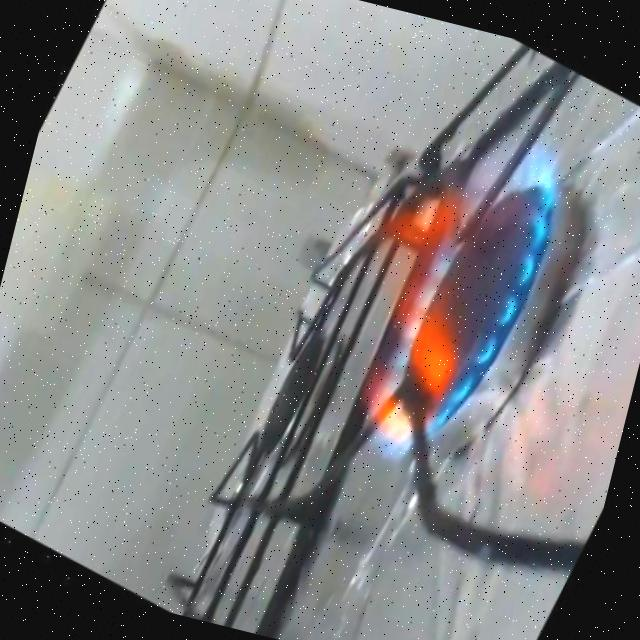fire: (254, 59, 605, 520)
